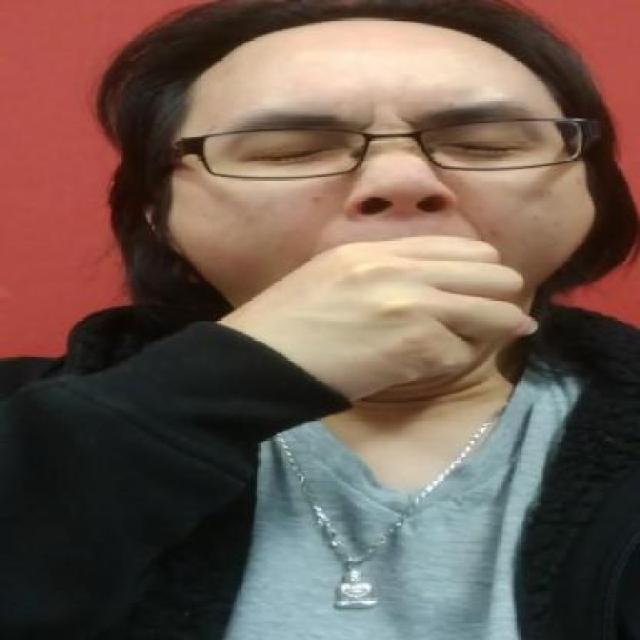drowsy: (437, 133, 540, 165), (243, 140, 337, 172)
